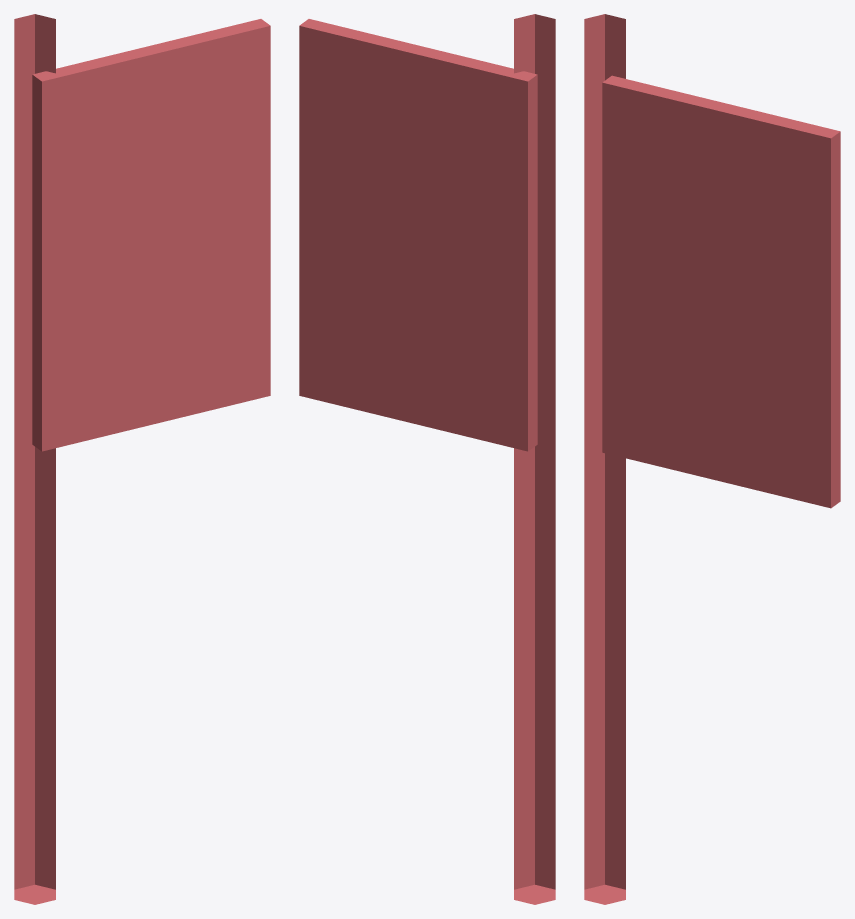
Rendered from BannerStand.glb.
The picture shows the model from 3 angles, left to right: view 1: azimuth 30°, elevation 25°; view 2: azimuth 150°, elevation 25°; view 3: azimuth 330°, elevation 25°; orthographic projection.
Visible parts, largest first — view 1: filler_BannerStand; view 2: filler_BannerStand; view 3: filler_BannerStand.
Boxes of the visible parts, x1,y1,x2,y2 form: filler_BannerStand: (14,14,270,904); filler_BannerStand: (299,14,555,904); filler_BannerStand: (584,14,840,904).
Bounding box in the file's own units: 0.605 × 2 × 0.0866.
